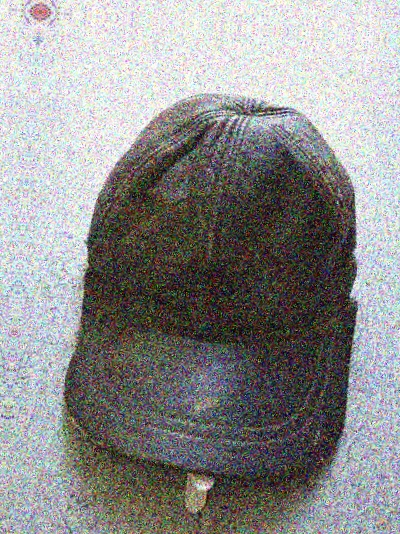Hat: (46, 72, 400, 511)
